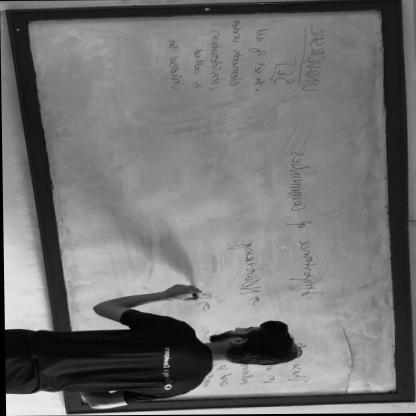Handwritten text: (280, 145, 330, 301), (224, 235, 266, 294), (300, 19, 333, 94), (155, 33, 188, 90), (225, 13, 246, 87), (248, 26, 271, 90), (208, 28, 226, 92), (271, 56, 301, 86), (189, 43, 208, 90)
Lecturer: (17, 296, 300, 398)
Whiteboard: (19, 5, 398, 405)
